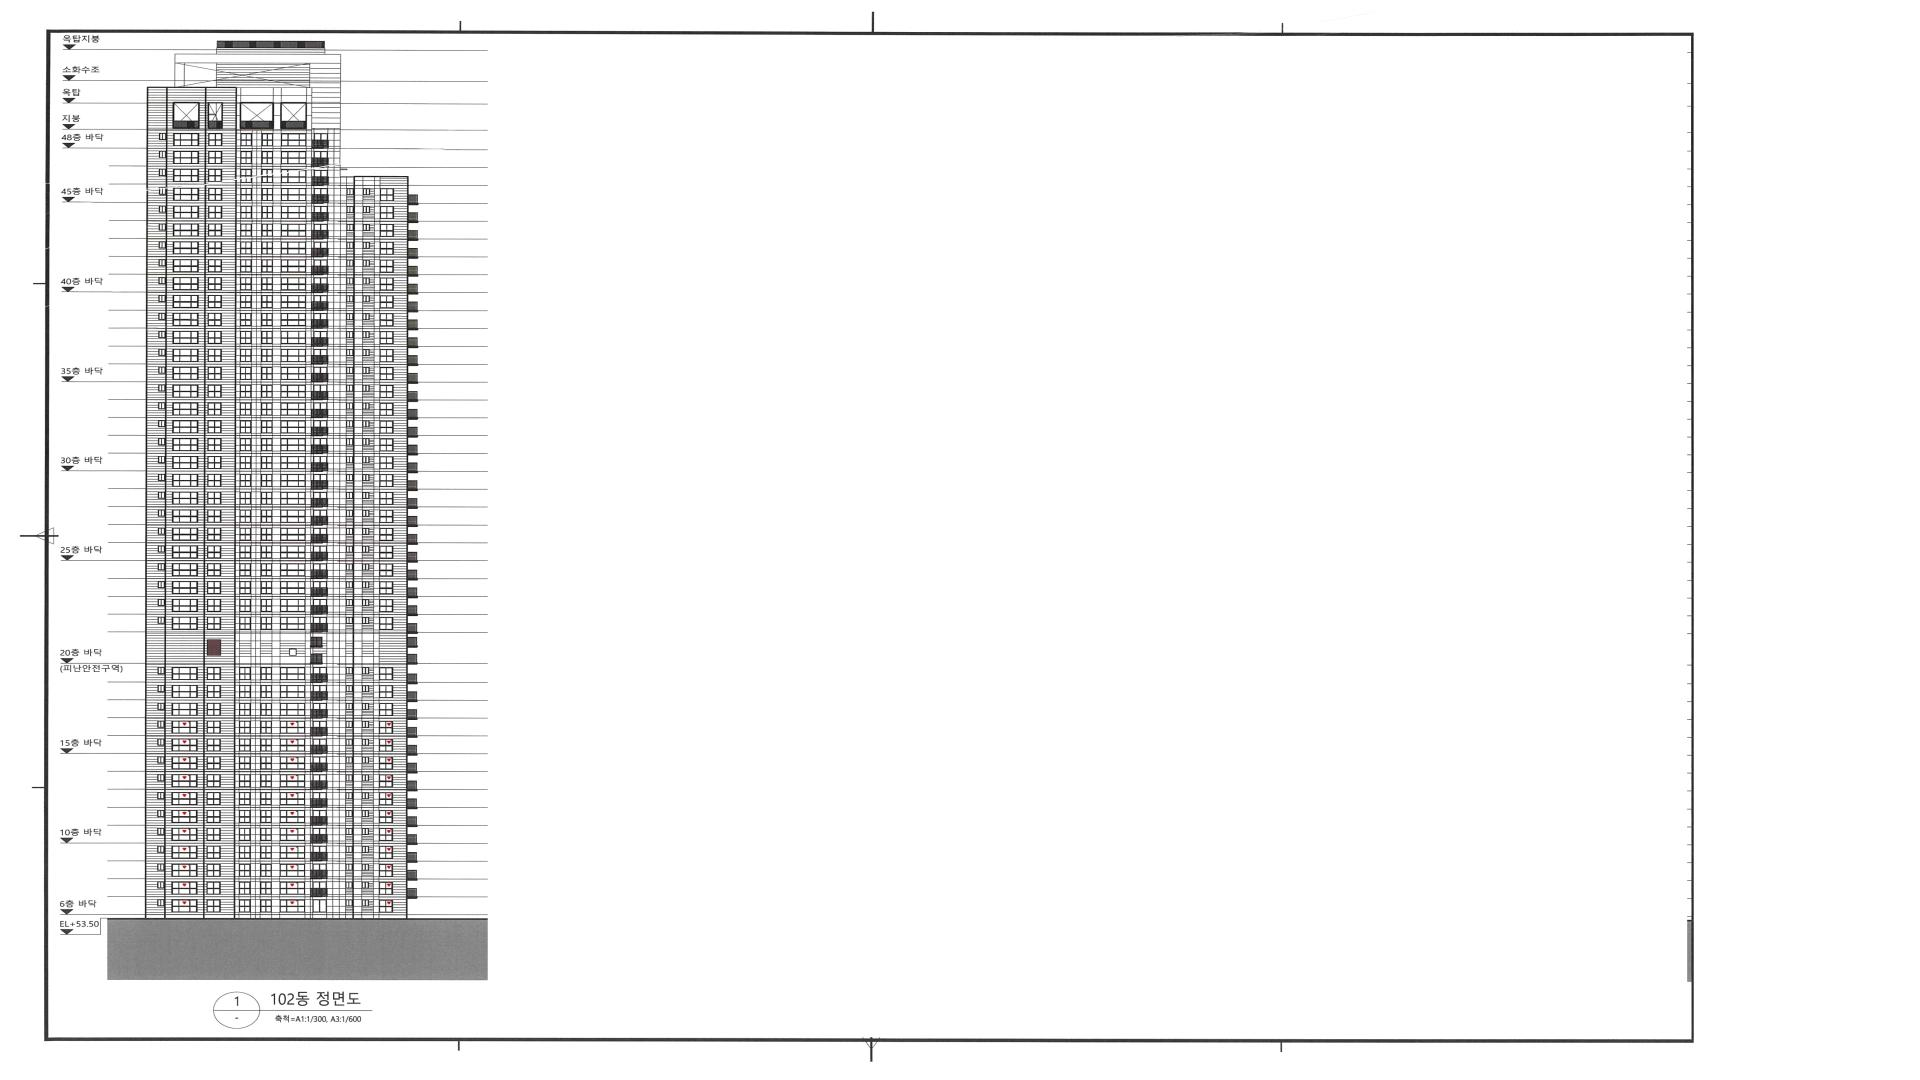wall: (145, 41, 418, 919)
window: (280, 473, 306, 487), (280, 563, 306, 576), (280, 582, 306, 595), (280, 667, 306, 680), (280, 738, 306, 752), (173, 133, 199, 146), (173, 169, 199, 182), (173, 187, 199, 200), (173, 206, 199, 219), (173, 241, 199, 255), (173, 260, 199, 273), (173, 277, 199, 290), (173, 331, 199, 344), (173, 348, 199, 361), (173, 367, 199, 380), (171, 492, 198, 505), (171, 509, 198, 522), (171, 527, 198, 541), (171, 546, 198, 559), (171, 563, 198, 576), (171, 582, 198, 595), (171, 599, 198, 612), (171, 617, 198, 630), (171, 667, 198, 680), (171, 684, 198, 698), (171, 703, 198, 716), (171, 720, 198, 733), (171, 738, 198, 752), (171, 757, 198, 770), (171, 774, 198, 787), (171, 793, 198, 806), (171, 810, 198, 823), (171, 828, 198, 841), (171, 845, 198, 858), (171, 864, 198, 877), (171, 881, 198, 894), (171, 899, 198, 913), (281, 133, 306, 146), (281, 169, 306, 182), (281, 187, 306, 200), (281, 206, 306, 219), (281, 241, 306, 255), (281, 260, 306, 273), (281, 277, 306, 290), (281, 295, 306, 309), (281, 313, 306, 326), (281, 331, 306, 344), (281, 367, 306, 380), (281, 402, 306, 415), (281, 438, 306, 451), (281, 456, 306, 469), (281, 527, 306, 541), (280, 599, 305, 612), (280, 703, 305, 716), (280, 774, 305, 787), (280, 793, 305, 806), (280, 810, 305, 823), (280, 828, 305, 841), (280, 845, 305, 858), (280, 864, 305, 877), (280, 881, 305, 894), (280, 899, 305, 913), (173, 313, 198, 326), (173, 402, 198, 415), (173, 438, 198, 451), (173, 456, 198, 469), (173, 473, 198, 487), (280, 617, 306, 629), (173, 152, 199, 164), (173, 224, 199, 236), (173, 295, 199, 307), (281, 152, 306, 164), (281, 224, 306, 236), (281, 349, 306, 361), (281, 385, 306, 397), (281, 421, 306, 433), (281, 492, 306, 504), (281, 510, 306, 522), (281, 546, 306, 558), (280, 686, 305, 698), (280, 721, 305, 733), (280, 757, 305, 769), (173, 385, 198, 397), (173, 421, 198, 433), (314, 170, 328, 186), (314, 241, 328, 257), (313, 402, 327, 418), (313, 438, 327, 454), (313, 509, 327, 525), (313, 527, 327, 543), (313, 563, 327, 579), (313, 599, 327, 615), (313, 738, 327, 754), (313, 774, 327, 790), (313, 810, 327, 825), (313, 845, 327, 861), (314, 133, 328, 148), (314, 152, 328, 166), (314, 189, 328, 203), (314, 224, 328, 239), (314, 260, 328, 274), (313, 349, 327, 364), (313, 492, 327, 506), (313, 546, 327, 560), (313, 582, 327, 596), (313, 617, 327, 632), (313, 667, 327, 682), (313, 686, 327, 700), (313, 703, 327, 717), (313, 721, 327, 736), (313, 757, 327, 771), (313, 793, 327, 807), (313, 828, 327, 843), (313, 864, 327, 878), (313, 882, 327, 897), (380, 313, 394, 327), (314, 277, 327, 293), (314, 473, 327, 489), (380, 189, 394, 202), (380, 206, 394, 219), (380, 224, 394, 237), (378, 757, 393, 770), (378, 774, 393, 787), (378, 793, 393, 806), (378, 810, 393, 823), (378, 828, 393, 841), (378, 864, 393, 877), (378, 899, 393, 913), (314, 295, 327, 310), (314, 314, 327, 328), (314, 331, 327, 345), (314, 367, 327, 381), (314, 385, 327, 400), (314, 421, 327, 435), (314, 456, 327, 471), (313, 899, 327, 913), (208, 150, 223, 164), (207, 402, 222, 415), (207, 419, 222, 433), (207, 438, 222, 451), (207, 456, 222, 469), (207, 473, 222, 487), (207, 492, 222, 505), (207, 527, 222, 541), (207, 563, 222, 576), (207, 582, 222, 595), (207, 599, 222, 612), (207, 617, 222, 630), (380, 241, 394, 255), (380, 260, 394, 273), (380, 331, 394, 344), (380, 349, 394, 363), (380, 367, 394, 380), (380, 385, 394, 398), (378, 703, 393, 716), (378, 738, 393, 752), (207, 684, 222, 698), (207, 703, 222, 716), (207, 738, 222, 752), (207, 793, 222, 806), (207, 864, 222, 877), (207, 899, 222, 913), (208, 133, 222, 146), (208, 169, 222, 182), (208, 187, 222, 200), (208, 206, 222, 219), (208, 241, 222, 255), (208, 277, 222, 290), (208, 313, 222, 326), (208, 331, 222, 344), (208, 367, 222, 380), (208, 385, 222, 398), (207, 667, 220, 680), (380, 295, 393, 309), (380, 402, 393, 415), (380, 421, 393, 434), (380, 438, 393, 451), (380, 456, 393, 469), (380, 473, 393, 487), (380, 492, 393, 505), (380, 510, 393, 524), (380, 527, 393, 541), (380, 546, 393, 559), (380, 563, 393, 576), (380, 582, 393, 595), (380, 599, 393, 612), (380, 617, 393, 630), (380, 667, 393, 680), (207, 774, 220, 787), (207, 810, 220, 823), (207, 828, 220, 841), (207, 845, 220, 858), (378, 847, 393, 858), (378, 882, 393, 894), (261, 169, 273, 183), (207, 510, 222, 522), (207, 546, 222, 558), (378, 686, 393, 698), (378, 721, 393, 733), (207, 721, 222, 733), (207, 882, 222, 894), (261, 133, 273, 146), (261, 206, 273, 219), (261, 241, 273, 255), (261, 260, 273, 273), (261, 277, 273, 290), (261, 295, 273, 309), (261, 313, 273, 326), (261, 331, 273, 344), (261, 367, 273, 380), (261, 385, 273, 398), (261, 402, 273, 415), (261, 421, 273, 434), (261, 438, 273, 451), (261, 456, 273, 469), (240, 563, 252, 576), (240, 546, 252, 559), (240, 492, 252, 505), (240, 473, 252, 487), (240, 456, 252, 469), (240, 438, 252, 451), (240, 421, 252, 434), (240, 402, 252, 415), (240, 385, 252, 398), (240, 367, 252, 380), (240, 331, 252, 344), (240, 313, 252, 326), (240, 295, 252, 309), (240, 277, 252, 290), (240, 260, 252, 273), (240, 241, 252, 255), (240, 206, 252, 219), (240, 169, 252, 182), (208, 224, 222, 236), (208, 260, 222, 272), (208, 295, 222, 307), (208, 349, 222, 361), (380, 278, 393, 290), (207, 757, 220, 769), (239, 684, 251, 698), (239, 703, 251, 716), (260, 667, 272, 680), (260, 684, 272, 698), (260, 703, 272, 716), (260, 738, 272, 752), (260, 757, 272, 770), (260, 774, 272, 787), (260, 793, 272, 806), (260, 810, 272, 823), (260, 828, 272, 841), (260, 845, 272, 858), (260, 864, 272, 877), (260, 899, 272, 913), (239, 738, 251, 752), (239, 757, 251, 770), (239, 774, 251, 787), (239, 810, 251, 823), (261, 152, 273, 164), (261, 189, 273, 200), (261, 224, 273, 236), (261, 349, 273, 361), (261, 546, 273, 558), (240, 510, 252, 522), (240, 349, 252, 361), (240, 224, 252, 236), (240, 189, 252, 200), (239, 721, 251, 733), (260, 721, 272, 733), (260, 882, 272, 894), (239, 793, 251, 804), (239, 828, 251, 840), (239, 847, 251, 858), (239, 864, 251, 876), (239, 882, 251, 894), (261, 473, 272, 487), (261, 492, 272, 505), (261, 527, 272, 541), (261, 563, 272, 576), (261, 582, 272, 595), (261, 599, 272, 612), (261, 617, 272, 630), (240, 617, 251, 630), (240, 582, 251, 595), (240, 527, 251, 541), (241, 133, 252, 146), (240, 899, 251, 913), (261, 510, 272, 522), (240, 600, 251, 612), (241, 152, 252, 164), (240, 667, 251, 679), (361, 810, 369, 818), (345, 509, 353, 517), (345, 527, 353, 535), (345, 563, 353, 571), (345, 599, 353, 607), (157, 845, 165, 853), (361, 899, 369, 906), (361, 882, 369, 889), (361, 864, 369, 870), (361, 847, 369, 853), (361, 828, 369, 835), (361, 793, 369, 799), (361, 774, 369, 781), (361, 757, 369, 764), (361, 738, 369, 745), (361, 721, 369, 728), (361, 703, 369, 709), (361, 686, 369, 692), (361, 667, 369, 674), (363, 527, 369, 535), (363, 438, 369, 446), (363, 277, 369, 285), (363, 206, 371, 212), (363, 189, 371, 195), (345, 385, 353, 392), (345, 402, 353, 409), (345, 438, 353, 444), (345, 456, 353, 463), (345, 475, 353, 481), (345, 492, 353, 498), (345, 546, 353, 553), (345, 582, 353, 588), (345, 617, 353, 624), (345, 686, 353, 692), (345, 757, 353, 764), (345, 810, 352, 818), (345, 845, 352, 853), (157, 899, 165, 906), (157, 882, 165, 889), (157, 864, 165, 870), (157, 828, 165, 835), (157, 810, 165, 816), (157, 793, 165, 799), (157, 774, 165, 781), (157, 757, 165, 764), (157, 738, 165, 745), (157, 721, 165, 728), (157, 703, 165, 709), (157, 667, 165, 674), (158, 509, 165, 517), (158, 473, 165, 481), (158, 348, 165, 356), (158, 260, 166, 266), (158, 241, 166, 248), (158, 224, 166, 231), (158, 206, 166, 212), (160, 150, 166, 158), (289, 649, 297, 655), (363, 617, 369, 624), (363, 599, 369, 605), (363, 582, 369, 588), (363, 563, 369, 570), (363, 546, 369, 553), (363, 510, 369, 517), (363, 492, 369, 498), (363, 475, 369, 481), (363, 456, 369, 463), (363, 421, 369, 427), (363, 402, 369, 409), (363, 385, 369, 392), (363, 367, 369, 373), (363, 349, 369, 356), (363, 331, 369, 338), (363, 314, 369, 320), (363, 295, 369, 302), (363, 260, 369, 266), (363, 241, 369, 248), (363, 224, 369, 231), (347, 189, 353, 195), (347, 206, 353, 212), (347, 224, 353, 231), (347, 241, 353, 248), (347, 260, 353, 266), (347, 277, 353, 284), (347, 295, 353, 302), (347, 314, 353, 320), (347, 331, 353, 338), (347, 349, 353, 356), (347, 367, 353, 373), (347, 421, 353, 427), (345, 667, 352, 674), (345, 703, 352, 709), (345, 721, 352, 728), (345, 738, 352, 745), (345, 774, 352, 781), (345, 793, 352, 799), (345, 828, 352, 835), (345, 864, 352, 870), (345, 882, 352, 889), (345, 899, 352, 906), (158, 686, 165, 692), (158, 617, 165, 624), (158, 599, 165, 605), (158, 582, 165, 588), (158, 563, 165, 570), (158, 546, 165, 553), (158, 527, 165, 534), (158, 492, 165, 498), (158, 456, 165, 463), (158, 438, 165, 444), (158, 421, 165, 427), (158, 402, 165, 409), (158, 385, 165, 392), (158, 367, 165, 373), (158, 331, 165, 338), (158, 313, 165, 319), (158, 295, 165, 302), (158, 277, 165, 284), (160, 187, 166, 194), (160, 169, 166, 175), (160, 133, 166, 140)
